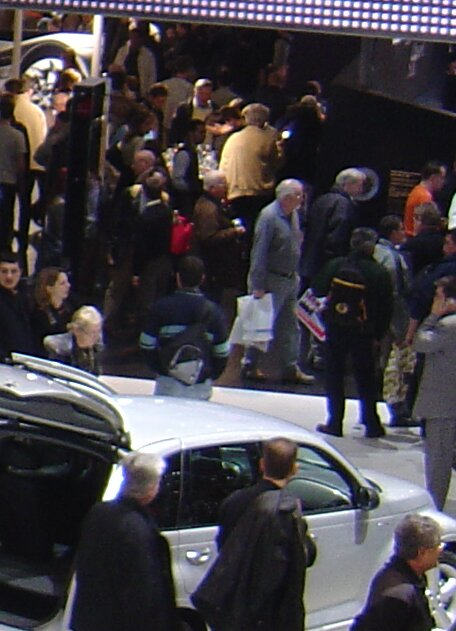person: (75, 443, 194, 630), (214, 437, 327, 631), (241, 182, 326, 384), (323, 221, 397, 443), (142, 249, 232, 405), (360, 509, 456, 629), (415, 278, 456, 499)
